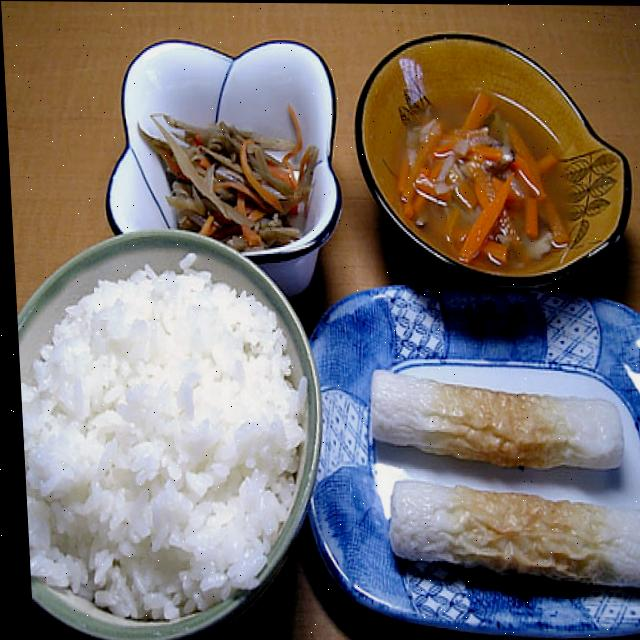米饭主食: (10, 242, 319, 622)
蔬菜料理: (97, 40, 332, 235)
